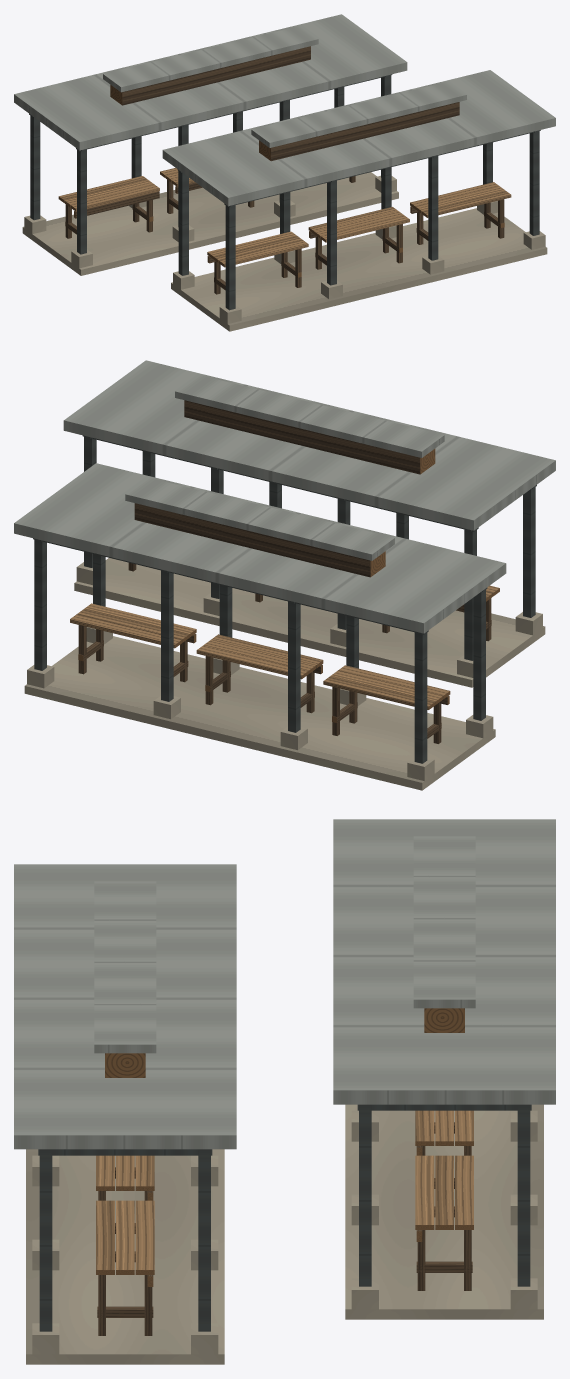
The picture shows the model from 3 angles, top to bottom: view 1: azimuth 30°, elevation 25°; view 2: azimuth 150°, elevation 25°; view 3: azimuth 270°, elevation 25°; orthographic projection. The views are drawn at different scales.
Visible parts, largest first — view 1: sokoto; view 2: sokoto; view 3: sokoto.
Part boxes in pixels (x1,y1,x2,y2): sokoto: (14, 14, 555, 331); sokoto: (14, 360, 555, 790); sokoto: (14, 819, 555, 1364).
Size of the model in its own units: 6.27 by 2.5 by 4.55.
1 material, 1 textured.
